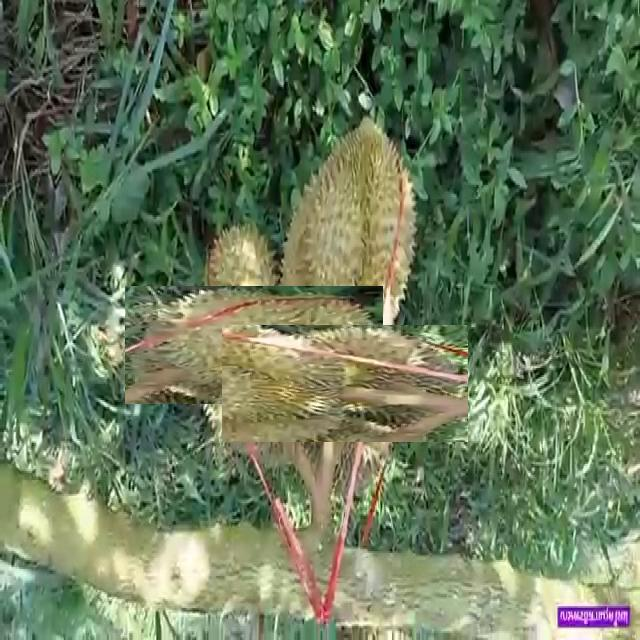durian: (276, 112, 419, 392), (160, 251, 349, 439), (253, 292, 436, 474)
